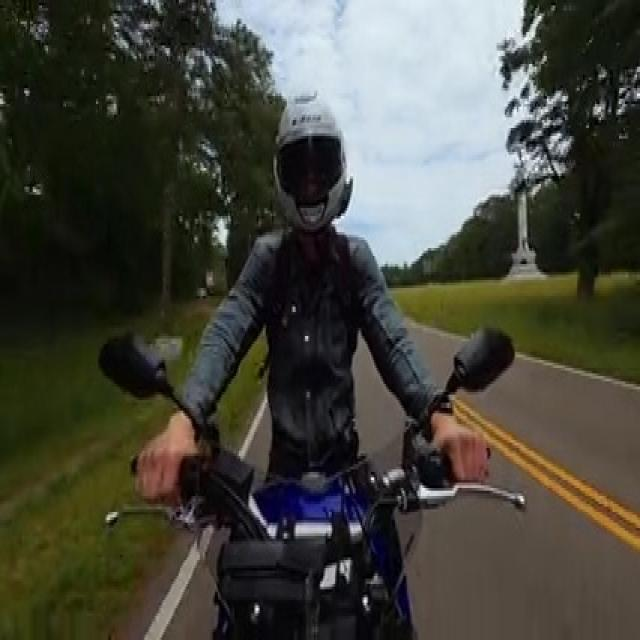Helmet_Wearer: (261, 79, 371, 237)
Person: (138, 78, 492, 486)
